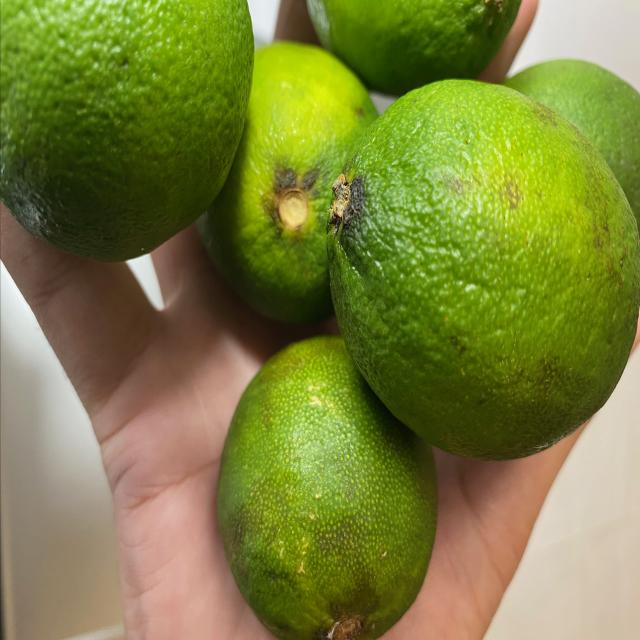lemon: (0, 0, 631, 616)
